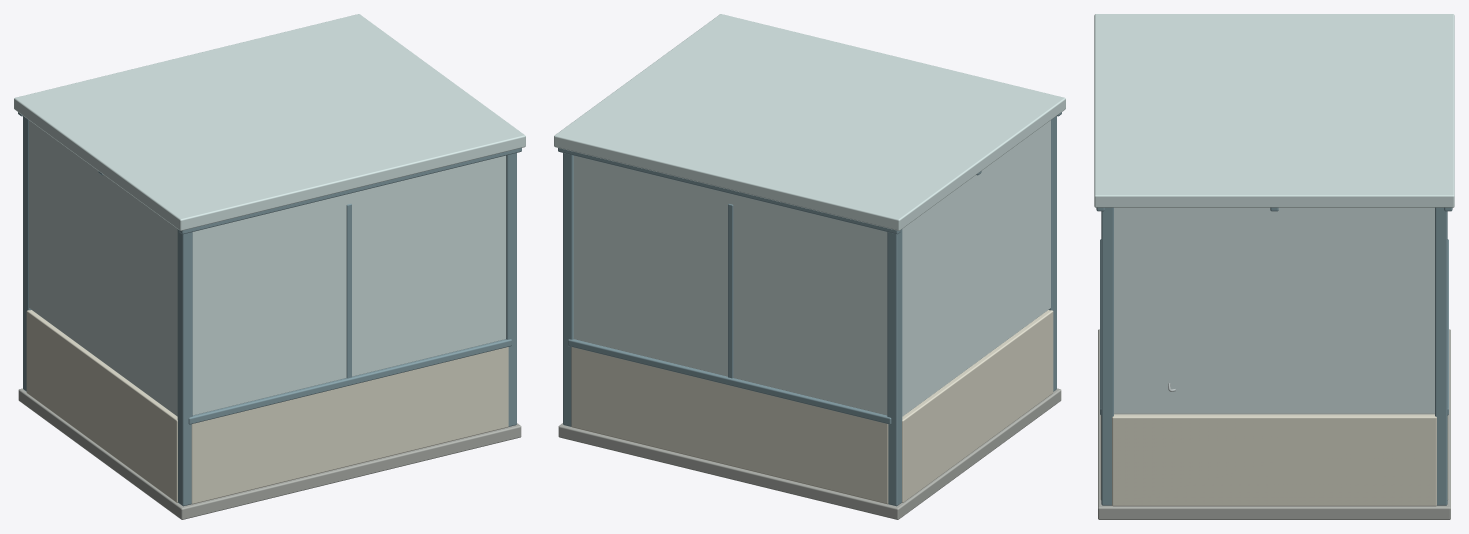
The model's file is abandoned-tidal-model-testing-hall-glazed-operator-cab-34d9f5ed__32330.glb.
3 views of the same model, side by side, from view 1: azimuth 30°, elevation 25°; view 2: azimuth 150°, elevation 25°; view 3: azimuth 270°, elevation 25° (orthographic). The views are drawn at different scales.
Parts seen in each view (by area): view 1: glazed-operator-cabin; view 2: glazed-operator-cabin; view 3: glazed-operator-cabin.
Part boxes in pixels (x1=…): glazed-operator-cabin: x1=14, y1=14, x2=525, y2=519; glazed-operator-cabin: x1=554, y1=14, x2=1065, y2=519; glazed-operator-cabin: x1=1094, y1=14, x2=1454, y2=519.
Size of the model in its own units: 3.11 by 2.55 by 2.55.
